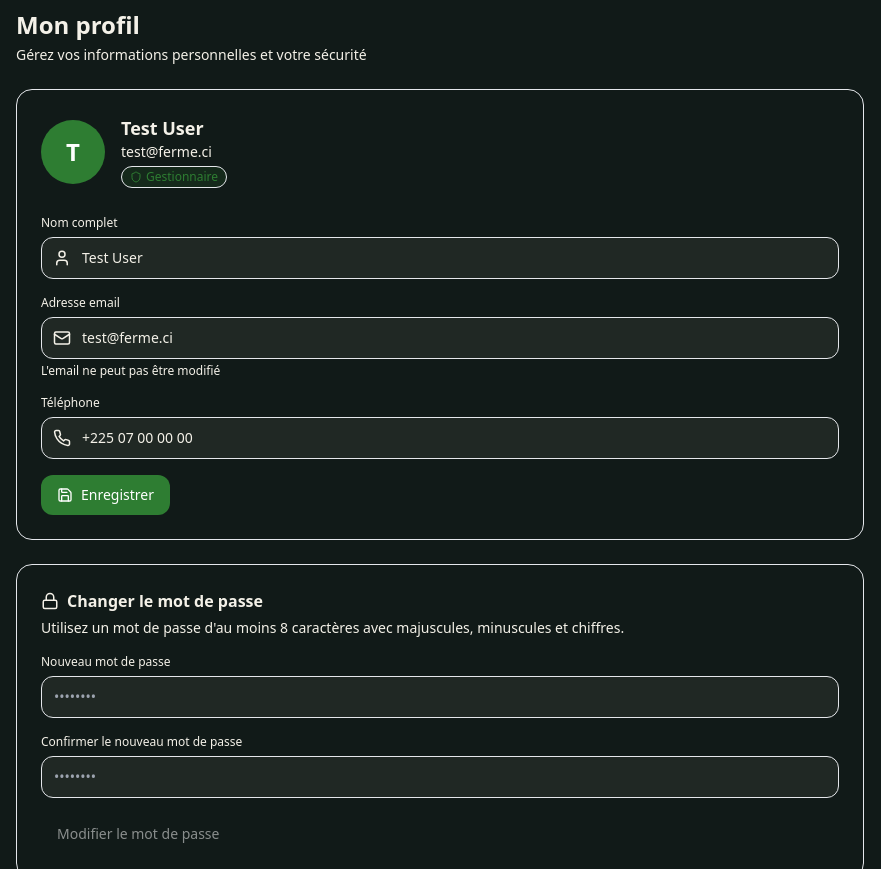
ProfilePage — changement de mot de passe › TEST 7 — mot de passe trop court affiche une erreur de validation
In the 1st password field with placeholder "••••••••": point(440, 697) [41,676,839,718], type "short"
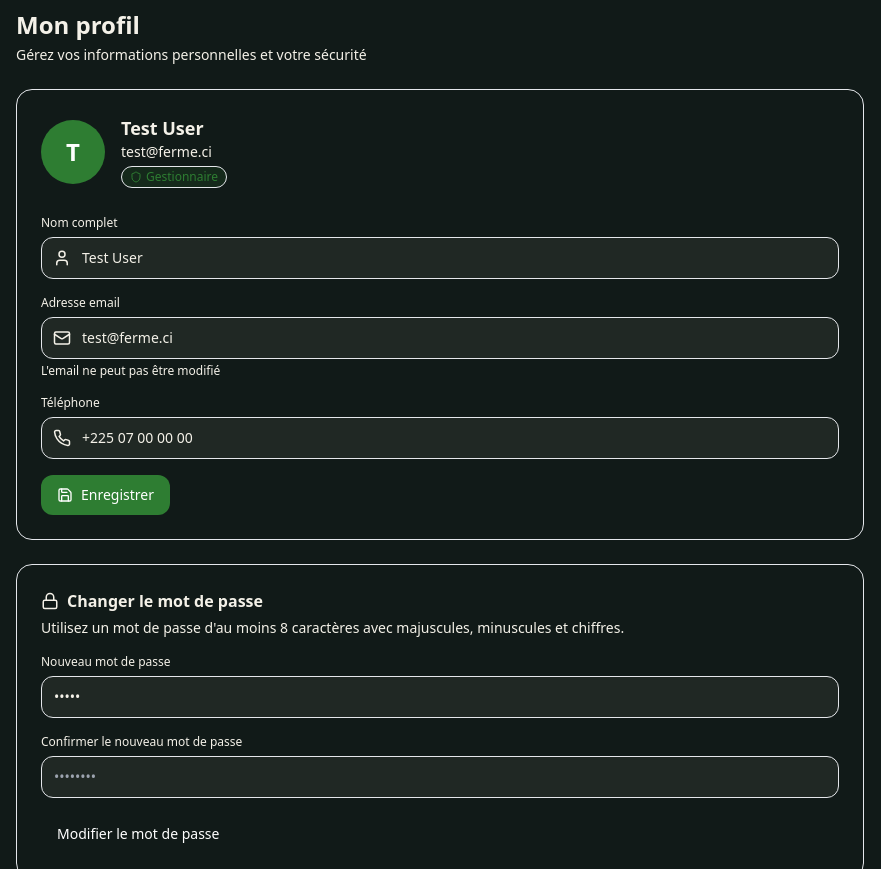
In the password field with placeholder "••••••••": point(440, 777) [41,756,839,798], type "short"
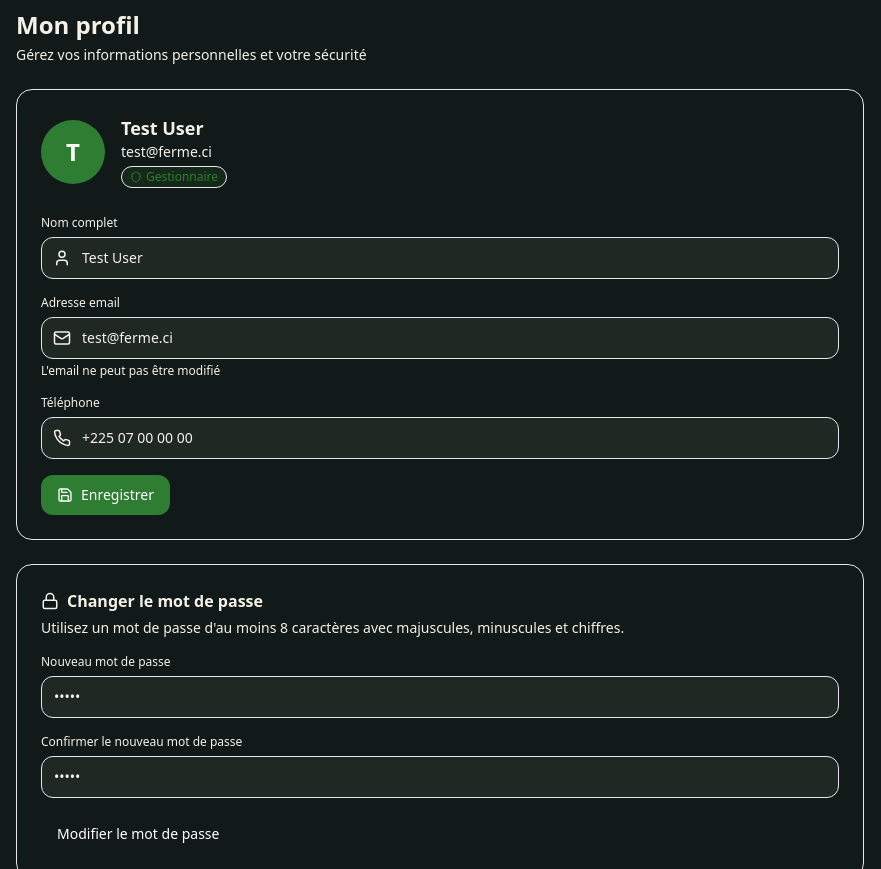
Click the button "Modifier le mot de passe": point(138, 834) [41,814,236,854]
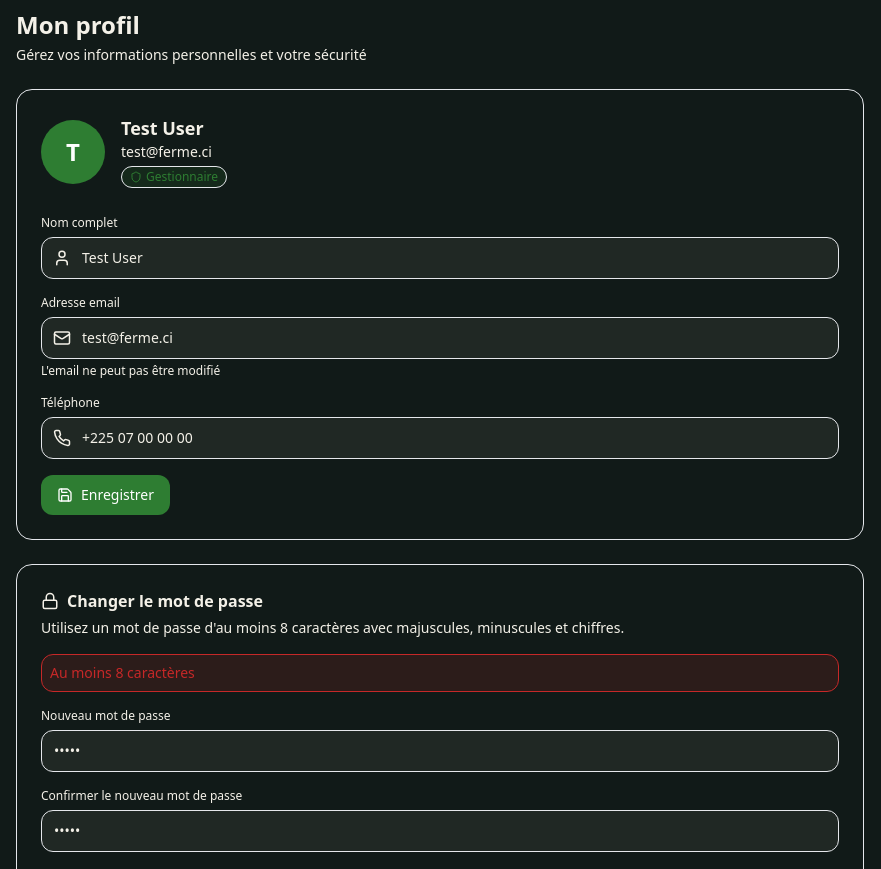
Check: the text "Au moins 8 caractères" is shown, box [41,654,839,692]
